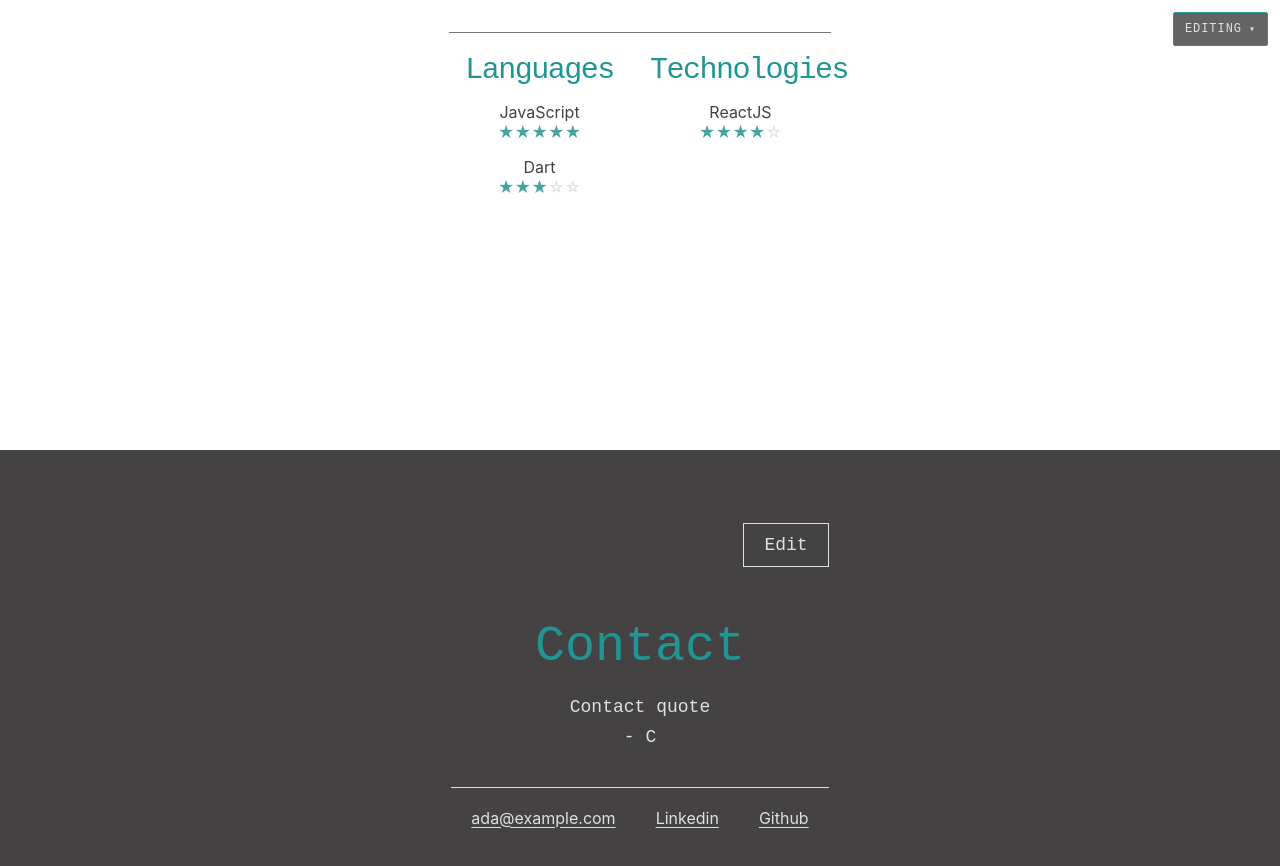
edit flow: editing the quotes › repaints from the response rather than the local draft
(page scrolled)
Click the button with class "editcontrol".
click(786, 544)  # box [743,522,829,566]
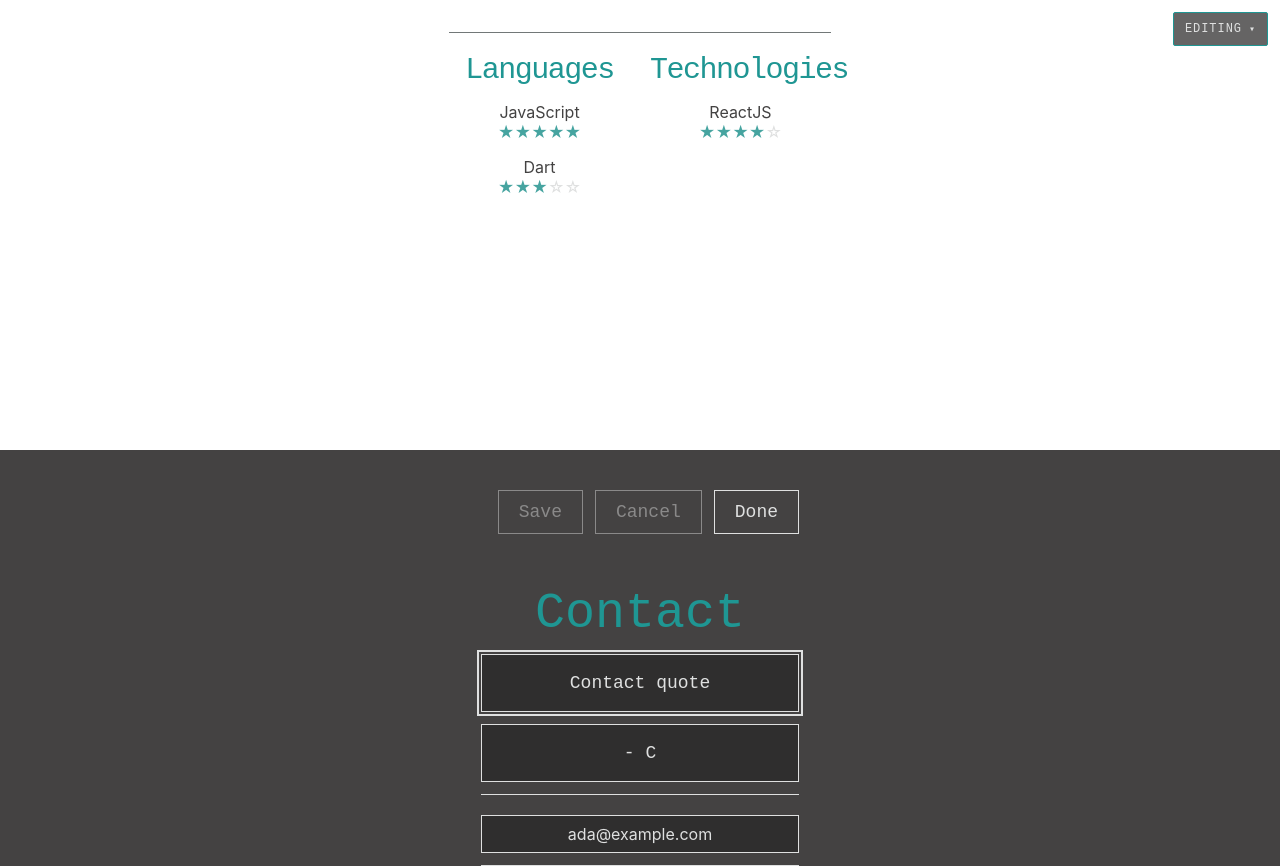
Replace the text in the text box with id "contact-quoteEdit" with "Mine." at (640, 683), box [481,654,799,712]
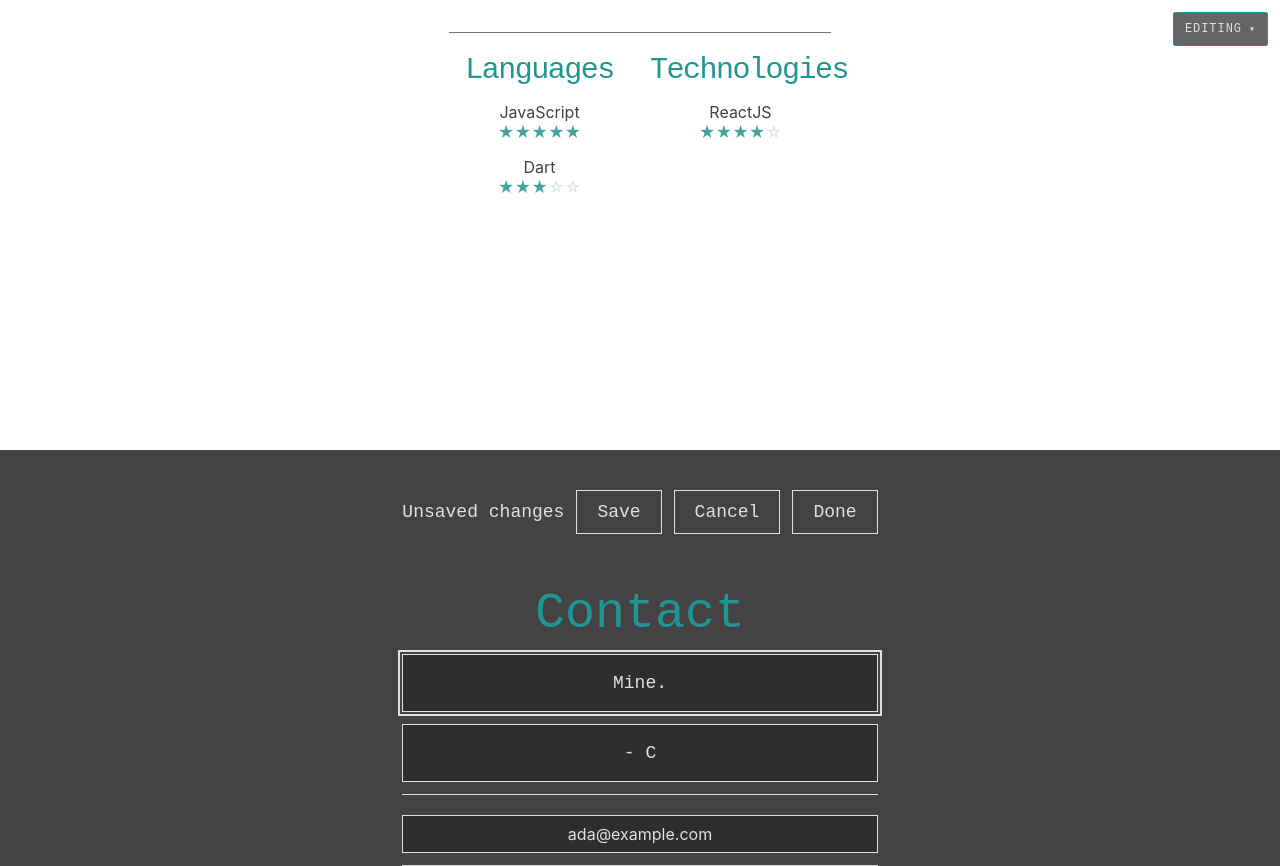
Click the button with class "editcontrol" showing "Save".
click(619, 512)  # box [576,490,662,534]
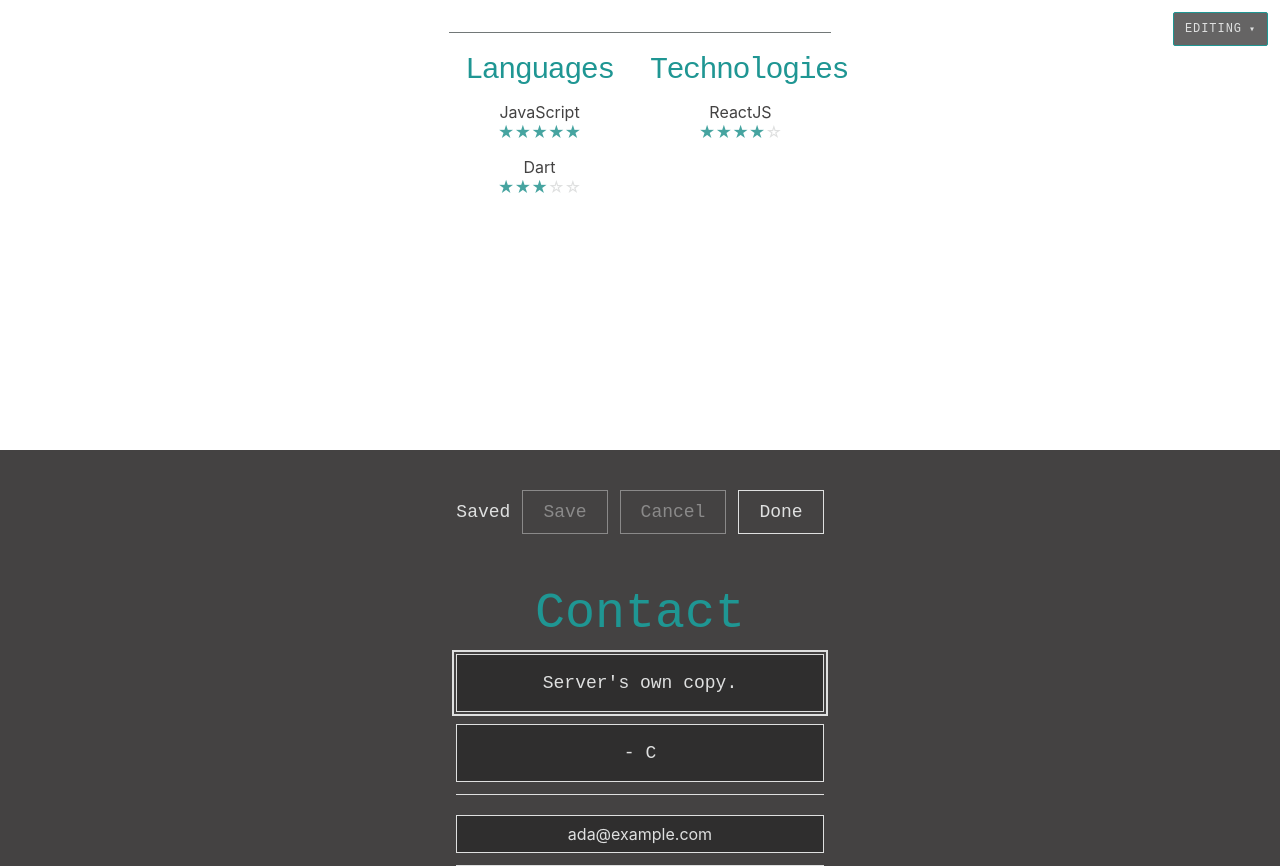
Expected: the message with class "editstatus" reads "Saved", [456,502,510,522]
Expected: the text box with id "contact-quoteEdit" holds "Server's own copy.", [456,654,824,712]
